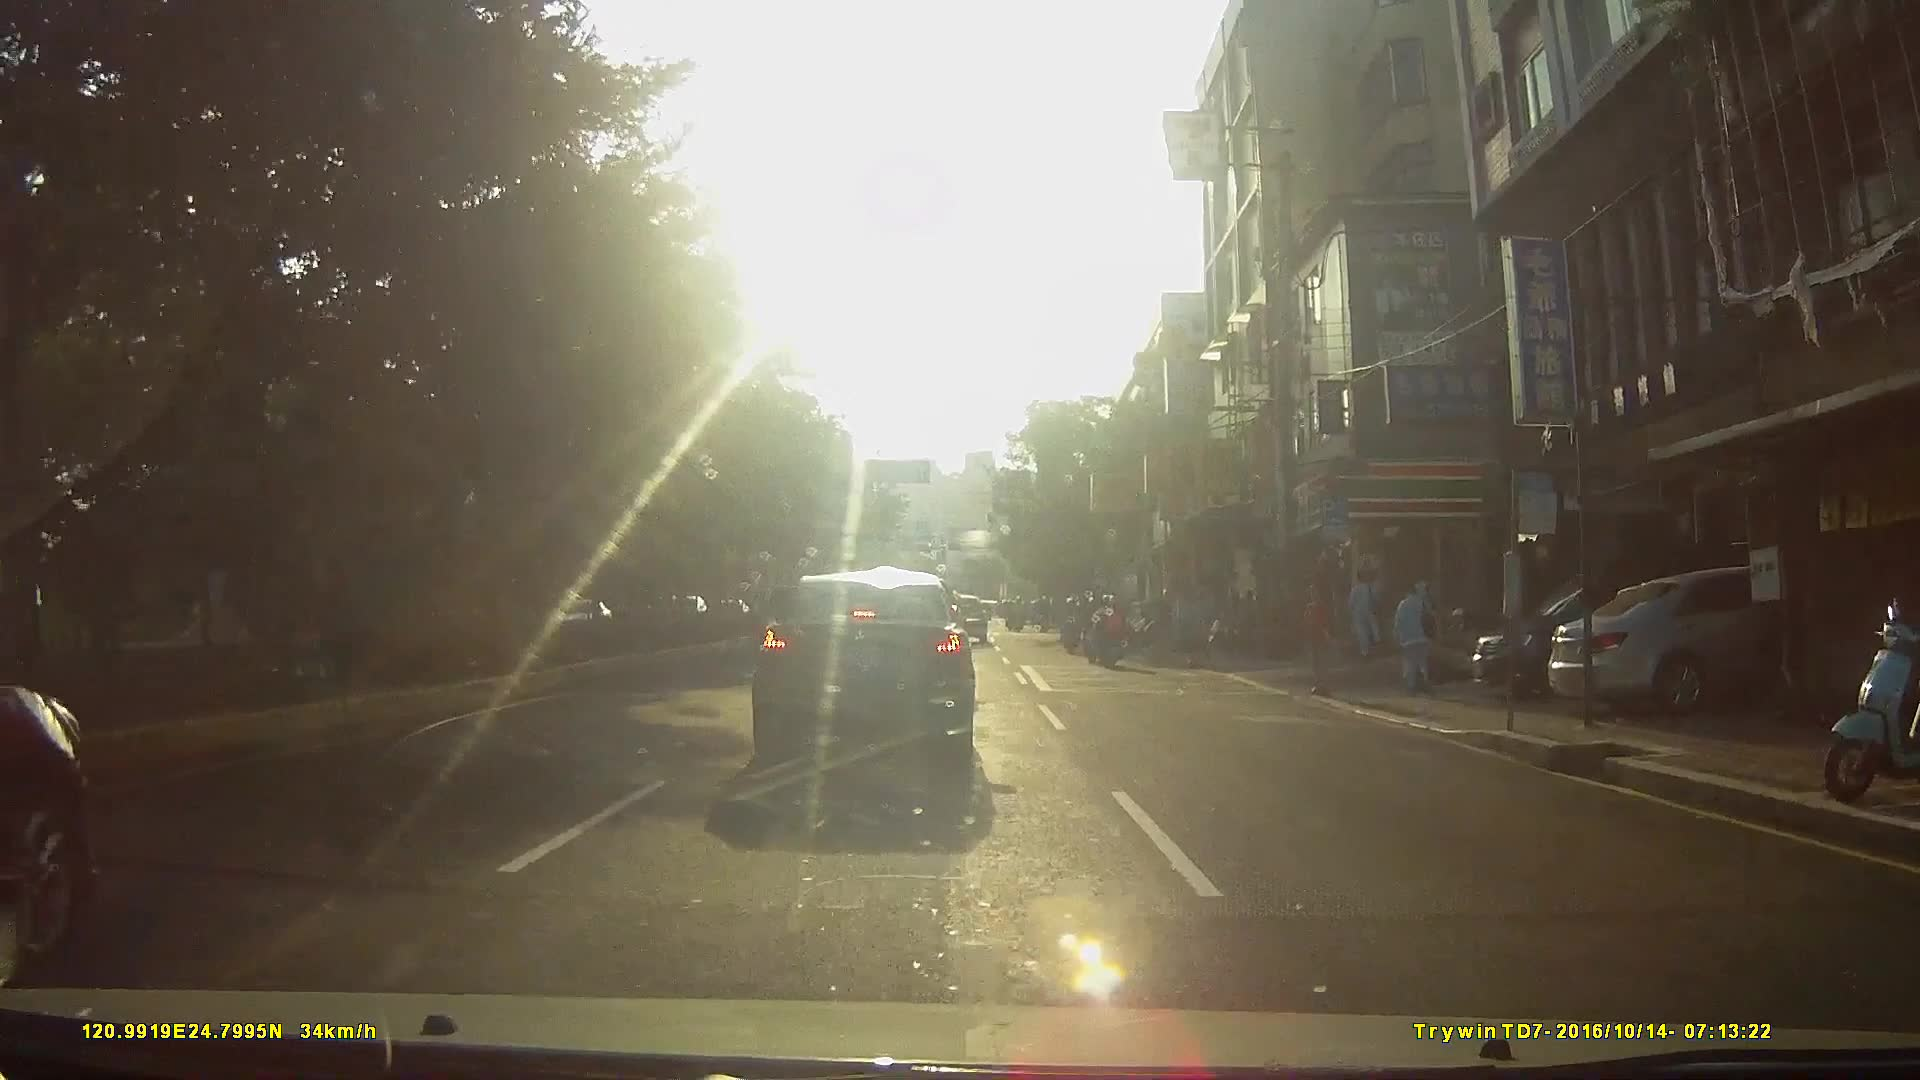pedestrian: (1390, 585, 1438, 704), (1306, 581, 1339, 701)
rider: (1091, 594, 1129, 673), (1060, 594, 1085, 655)
vehicle: (1464, 553, 1855, 712), (1526, 567, 1908, 720), (739, 570, 996, 775)
